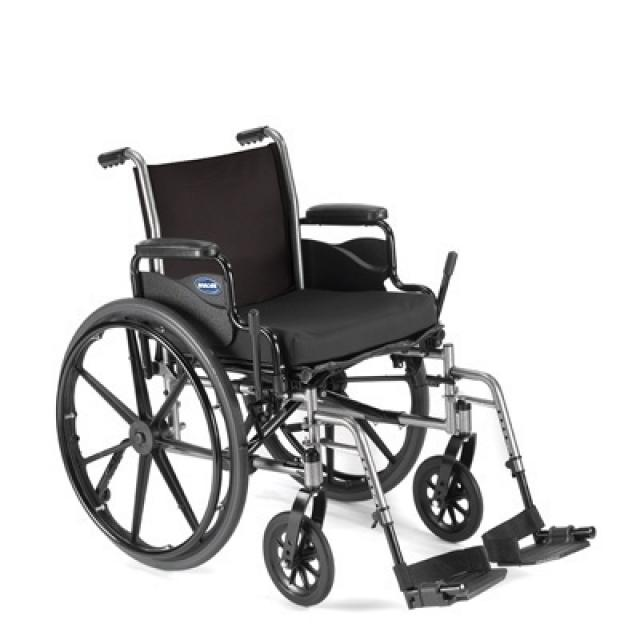wheelchair: (51, 98, 600, 614)
